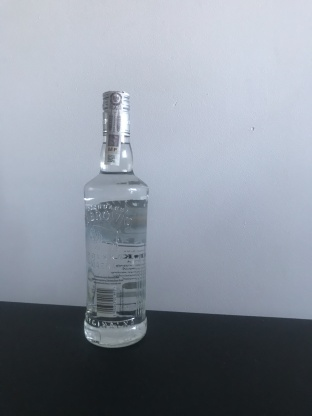nakretka: (99, 86, 132, 139)
